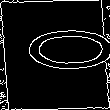O_E: (0, 33, 110, 77)
